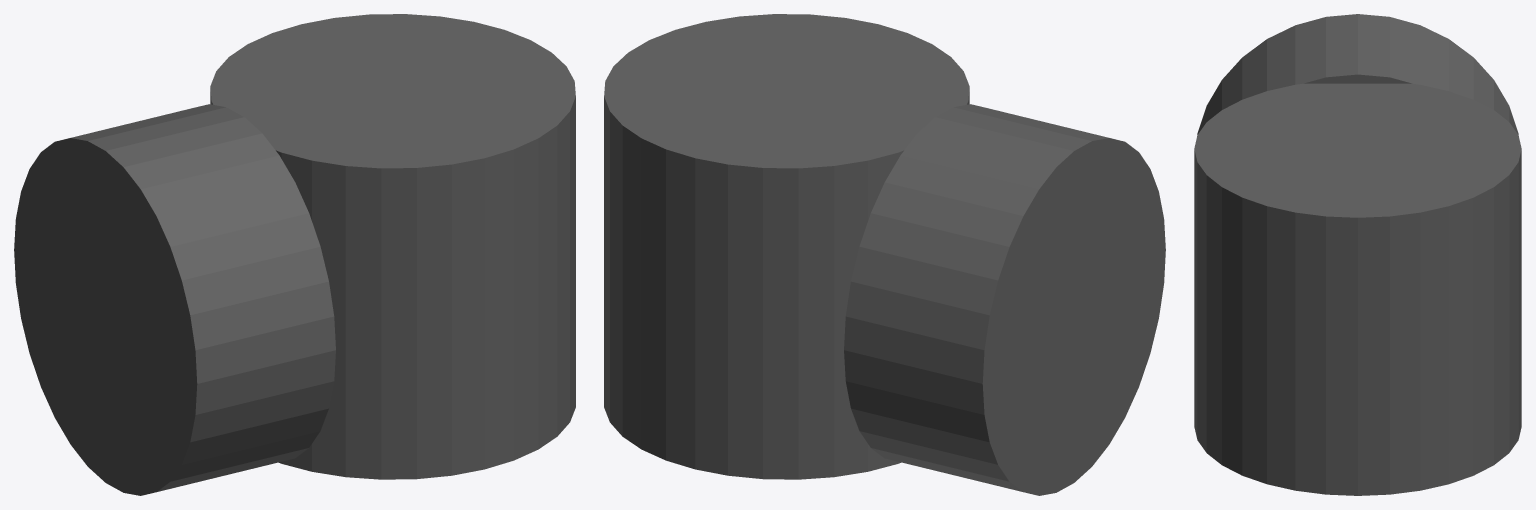
File: gripper_fix_90d.obj
3 views of the same model, side by side, from view 1: azimuth 30°, elevation 25°; view 2: azimuth 150°, elevation 25°; view 3: azimuth 270°, elevation 25° (orthographic). The views are drawn at different scales.
Parts seen in each view (by area): view 1: Cylinder; view 2: Cylinder; view 3: Cylinder.
Boxes of the visible parts, x1,y1,x2,y2 form: Cylinder: [14, 14, 575, 495]; Cylinder: [604, 14, 1165, 495]; Cylinder: [1194, 14, 1521, 495].
Bounding box in the file's own units: 0.09 × 0.064 × 0.064.
1 material, 1 textured.
